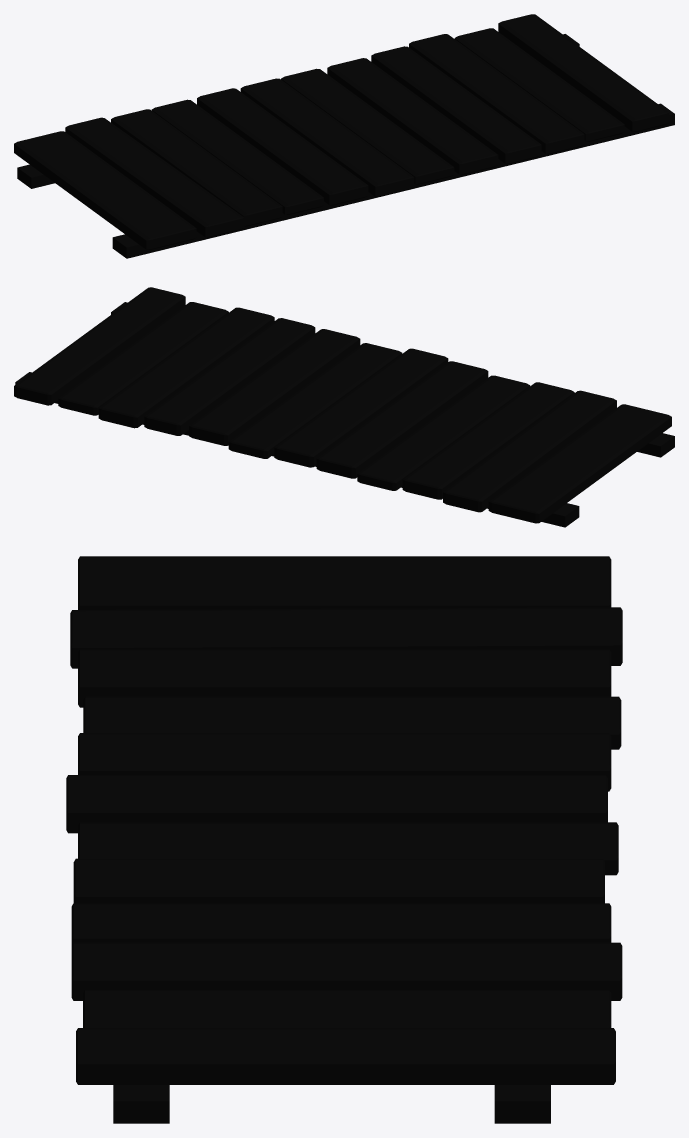
The model's file is Footbridge.fbx.
The picture shows the model from 3 angles, top to bottom: view 1: azimuth 30°, elevation 25°; view 2: azimuth 150°, elevation 25°; view 3: azimuth 270°, elevation 25°; orthographic projection. The views are drawn at different scales.
Visible parts, largest first — view 1: Footbridge; view 2: Footbridge; view 3: Footbridge.
Boxes of the visible parts, x1=… form: Footbridge: x1=14, y1=14, x2=674, y2=258; Footbridge: x1=14, y1=287, x2=674, y2=527; Footbridge: x1=66, y1=556, x2=622, y2=1123.
Bounding box in the file's own units: 481 × 19.81 × 211.
